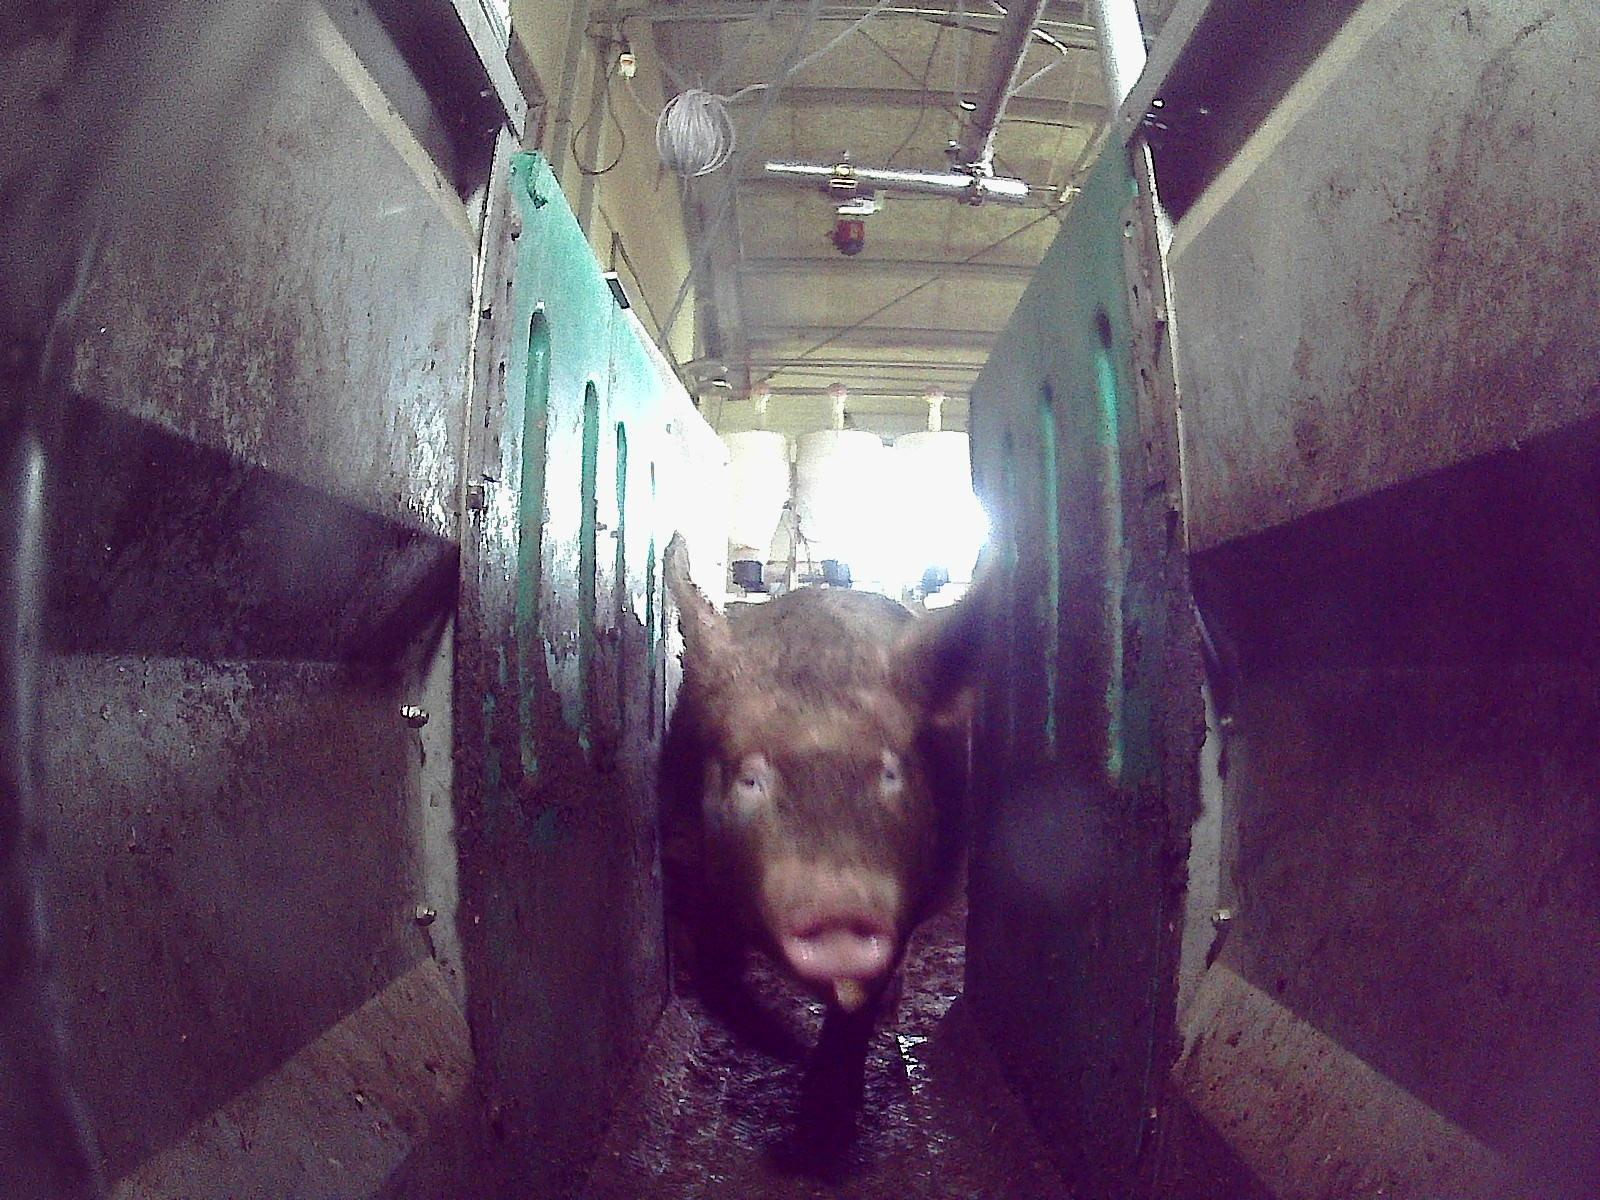Face: (702, 655, 937, 978)
